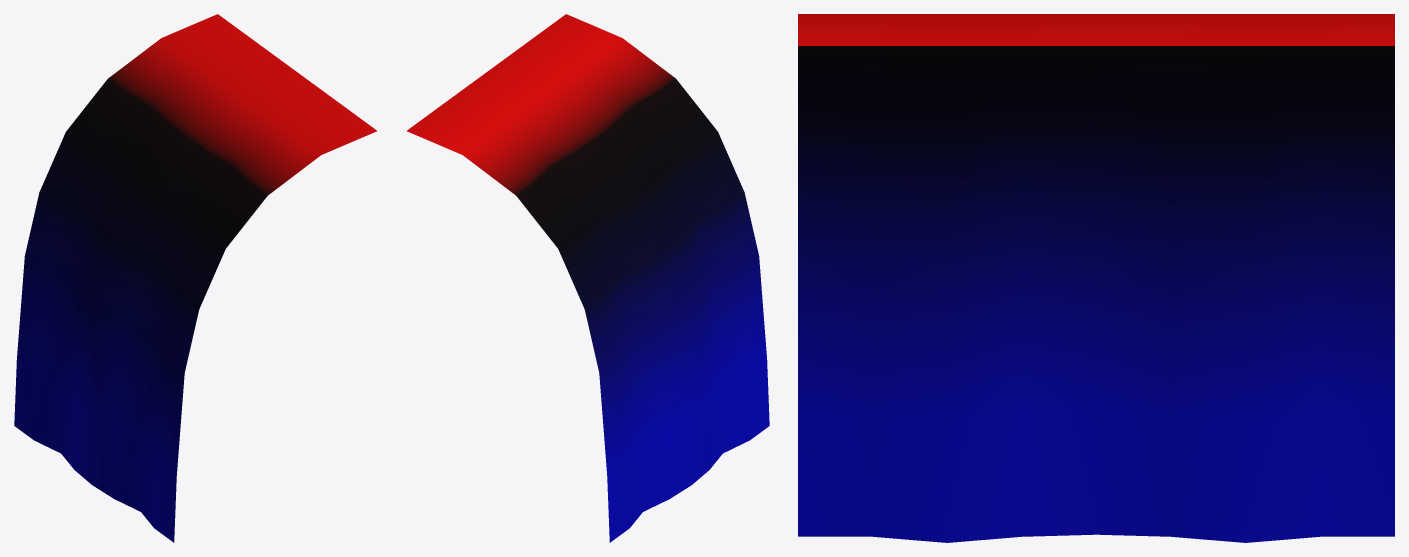
File: TSI_Waterfall_02A.fbx
3 renders of one model, left to right at view 1: azimuth 30°, elevation 25°; view 2: azimuth 150°, elevation 25°; view 3: azimuth 270°, elevation 25°, orthographic. The views are drawn at different scales.
Parts seen in each view (by area): view 1: TSI_Waterfall_02A; view 2: TSI_Waterfall_02A; view 3: TSI_Waterfall_02A.
Boxes of the visible parts, <box> form: TSI_Waterfall_02A: <box>14,14,376,542</box>; TSI_Waterfall_02A: <box>407,14,769,542</box>; TSI_Waterfall_02A: <box>798,14,1394,542</box>.
Bounding box in the file's own units: 2.97 × 5 × 4.
